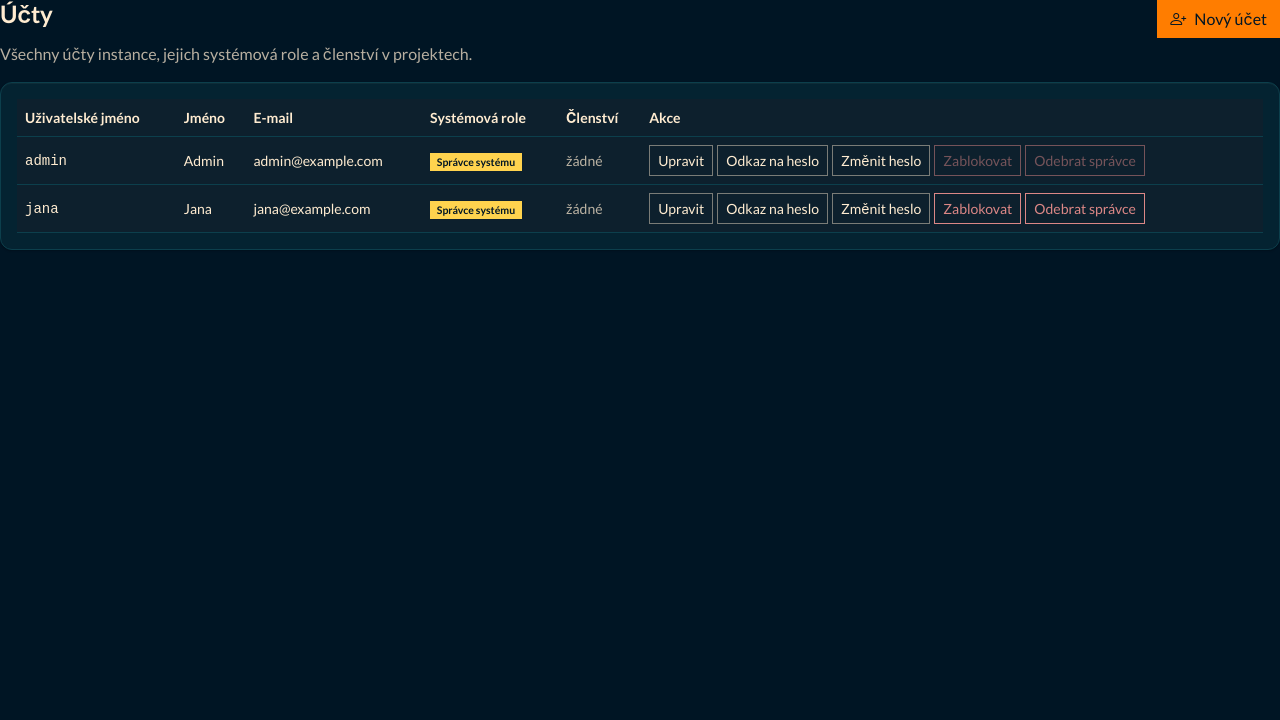
Test: SystemUsersPage › demotes after the confirmation and explains the last-maintainer refusal
Expected: the text "jana" is shown, top-left (25, 201), bottom-right (59, 217)
Step 1. Click the button "Odebrat správce" in the row of "jana@example.com" → (1085, 208), box top-left (1025, 193), bottom-right (1145, 224)
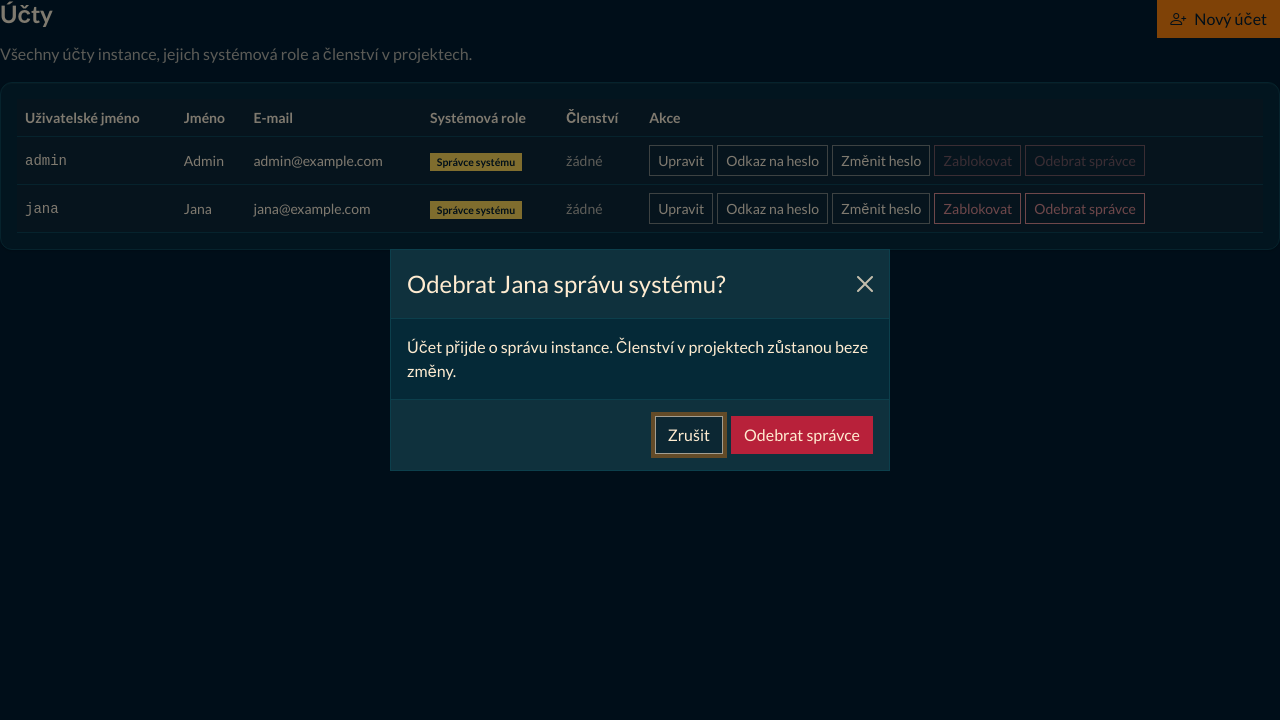
Step 2. Click the button "Odebrat správce" → (802, 435), box top-left (731, 416), bottom-right (873, 454)
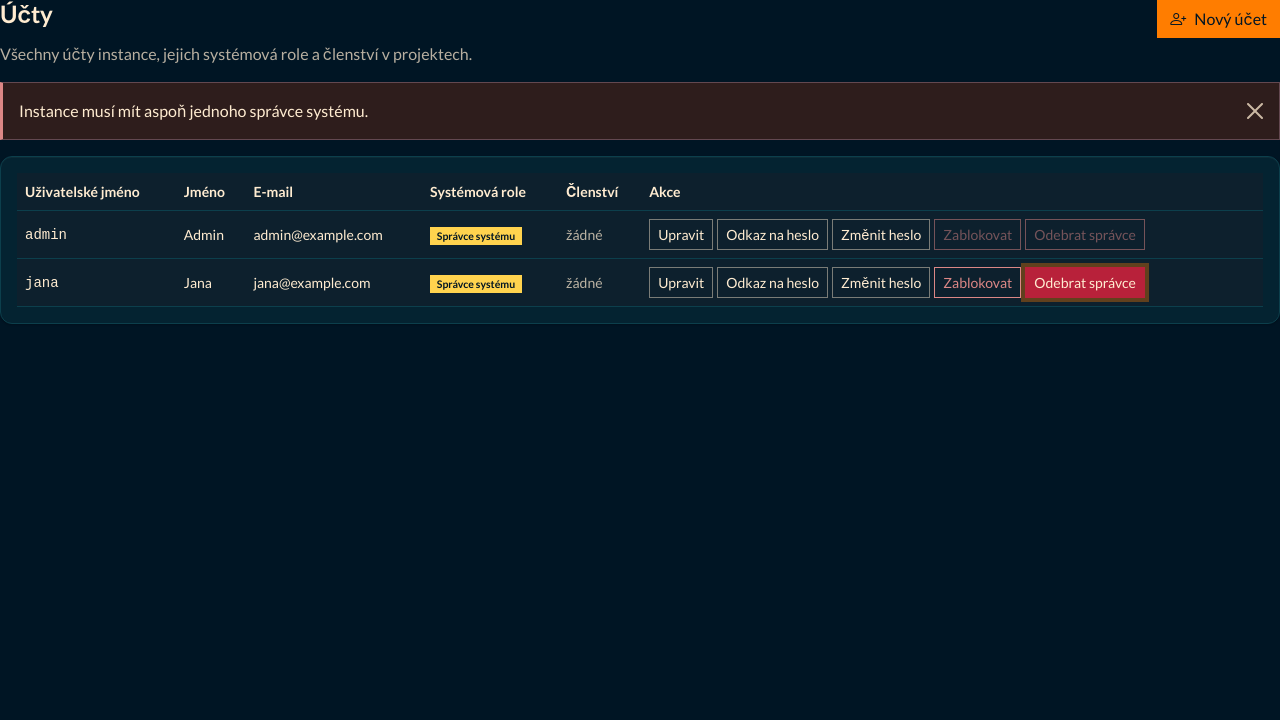
Expected: the text "Instance musí mít aspoň jednoho správce systému." is shown, top-left (0, 82), bottom-right (1279, 140)
Expected: the dialog is gone
Step 3. Click the button "Odebrat správce" in the row of "jana@example.com" → (1085, 282), box top-left (1025, 267), bottom-right (1145, 298)
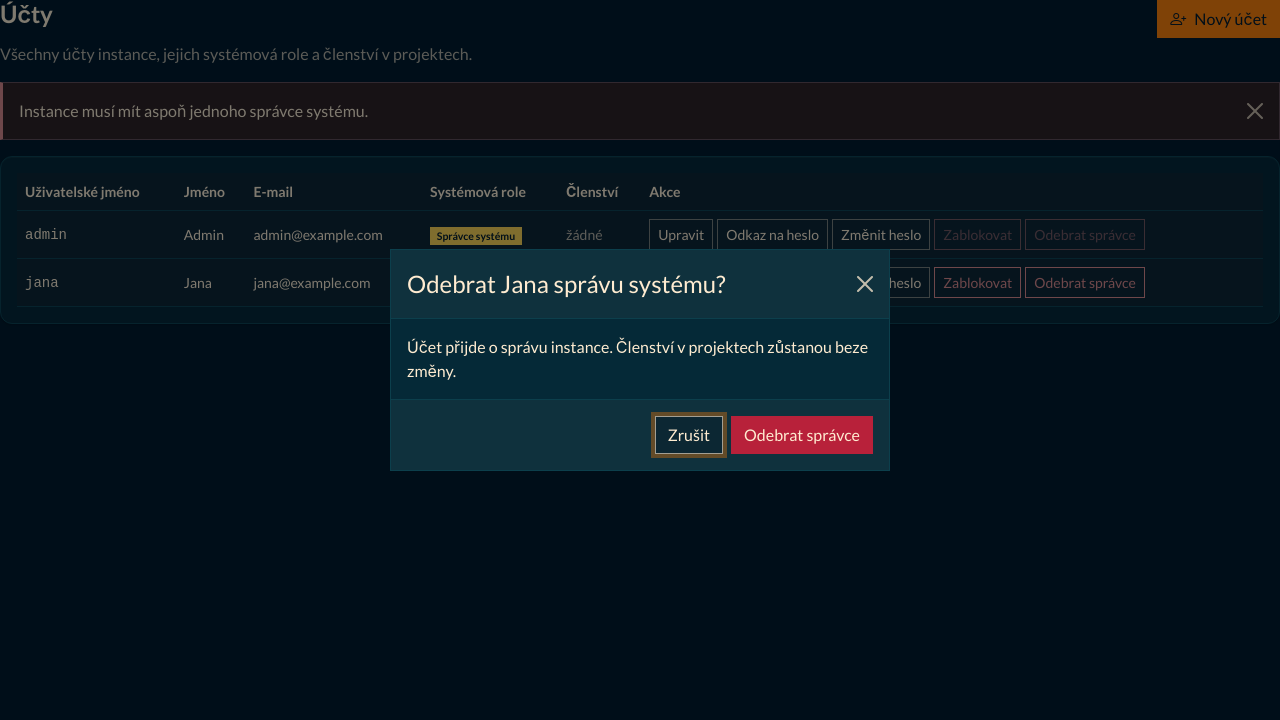
Step 4. Click the button "Odebrat správce" → (802, 435), box top-left (731, 416), bottom-right (873, 454)
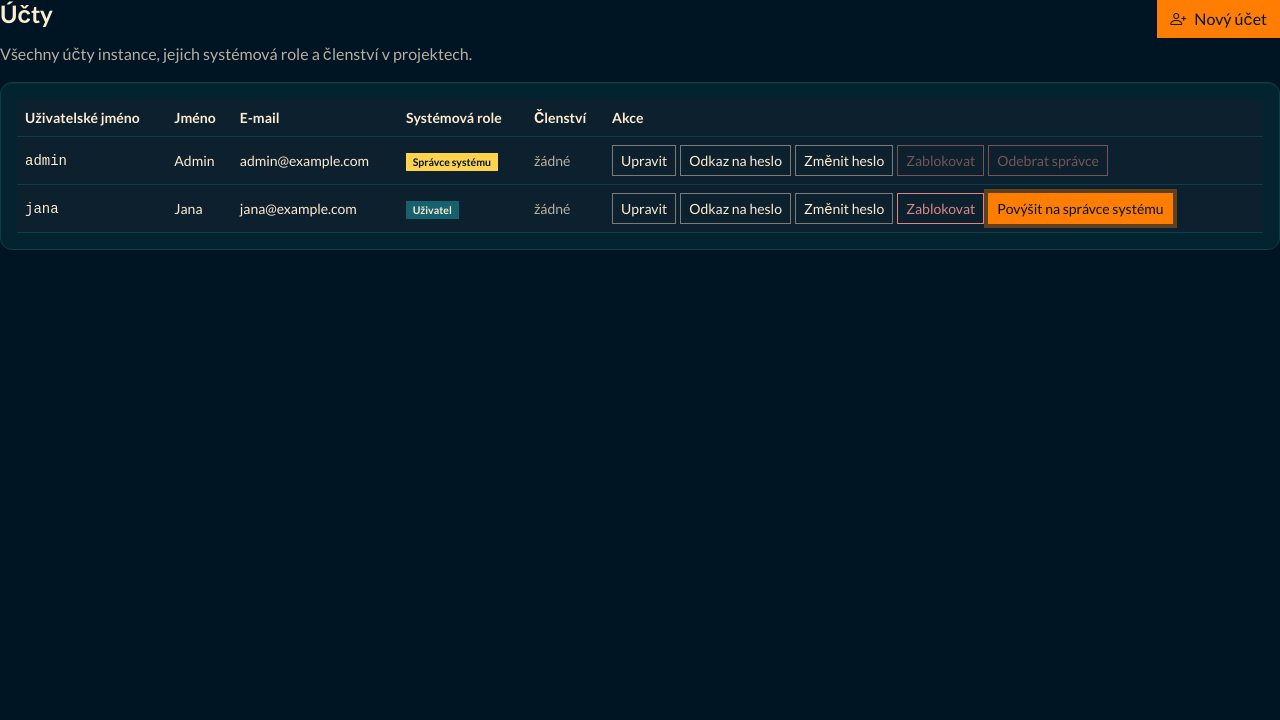
Expected: the text "Uživatel" is shown, top-left (406, 201), bottom-right (459, 219)
